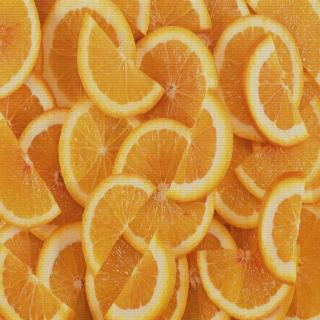Lemon: (0, 0, 319, 319)
Orange: (0, 4, 320, 318)
